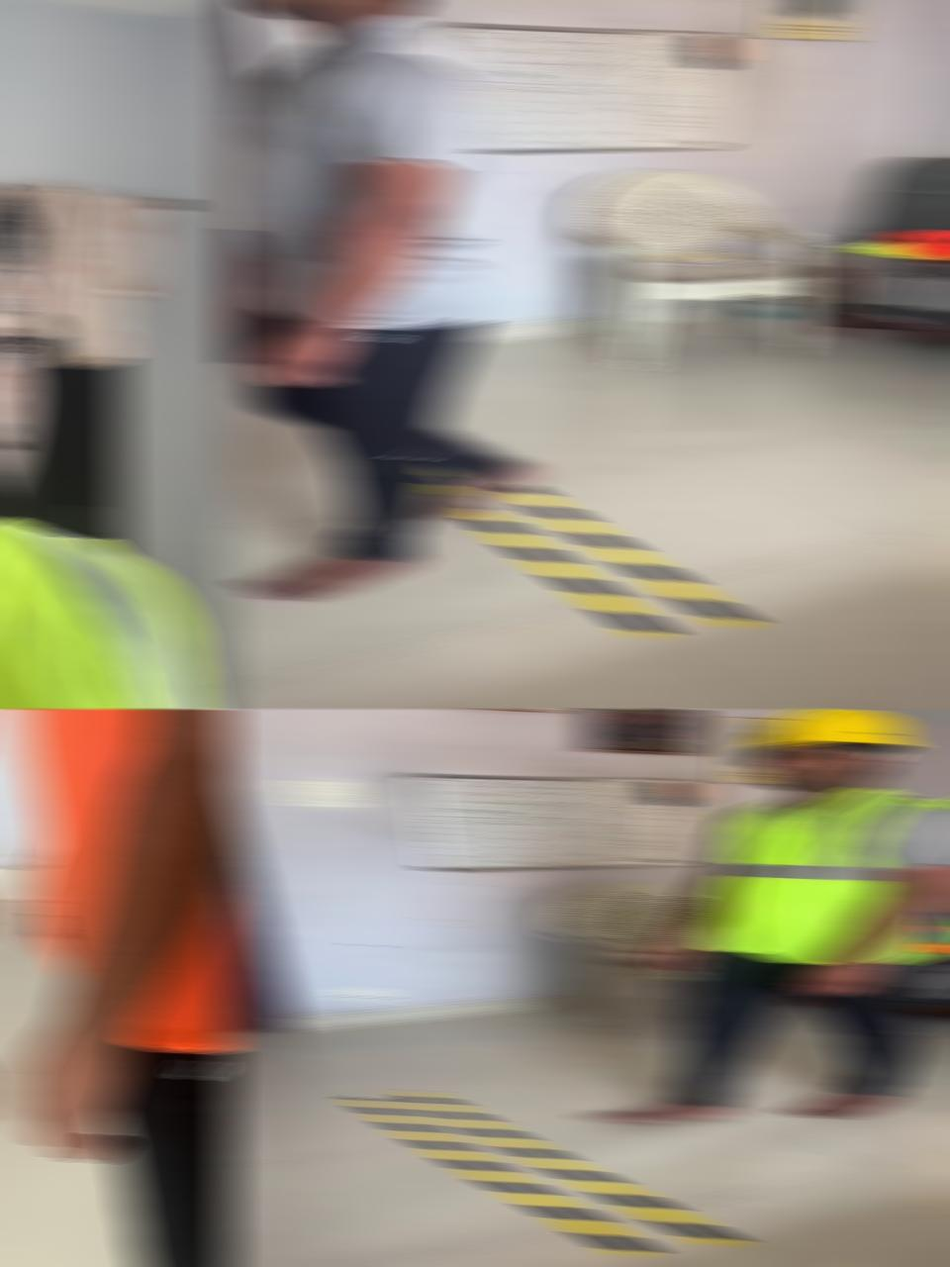BorderLine: (340, 1089, 747, 1256), (417, 472, 760, 639)
Helmet: (739, 709, 919, 750)
No_Helmet: (244, 0, 430, 26)
No_Vest: (230, 15, 501, 332)
Person: (225, 0, 546, 606), (581, 710, 950, 1123), (0, 143, 237, 709), (9, 709, 237, 1267)
Vest: (9, 709, 237, 1053), (694, 786, 950, 963), (0, 499, 209, 709)
